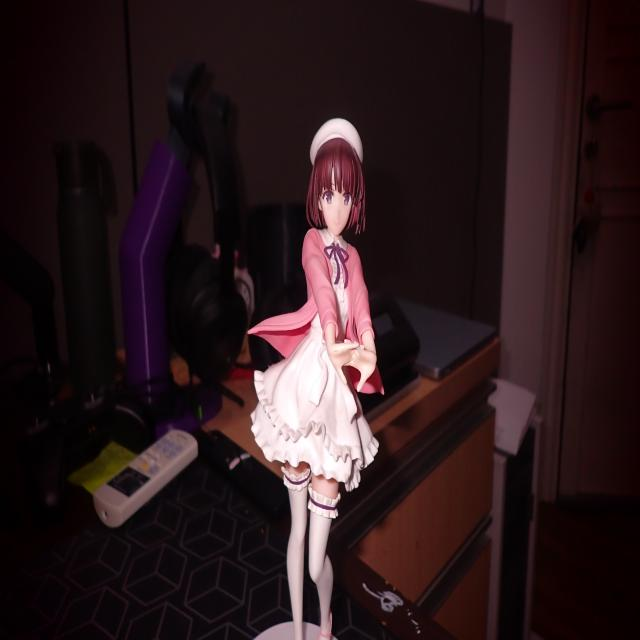My-pink-anime-figure: (249, 118, 384, 640)
